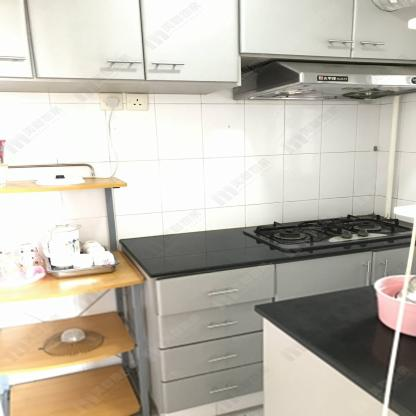Cupboard: (152, 246, 412, 414), (0, 1, 416, 81)
Exhaust Hood: (234, 59, 416, 104)
Stove: (243, 211, 413, 254)
